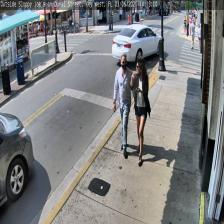person: (112, 54, 134, 156), (130, 58, 151, 164)
